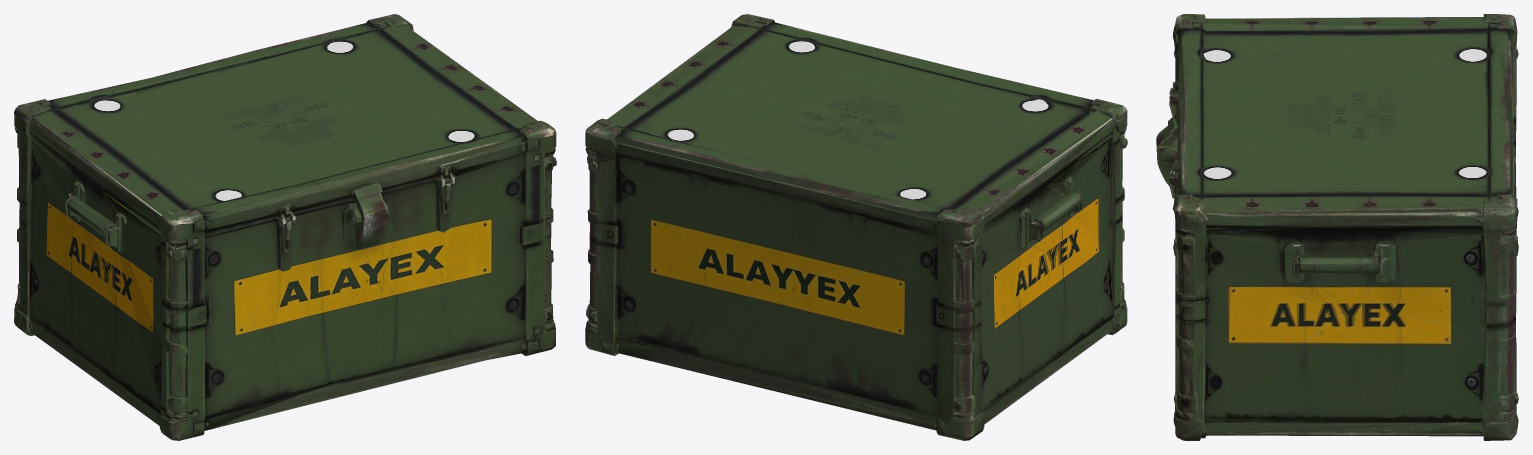
The model's file is ammo_crate.glb.
3 views of the same model, side by side, from view 1: azimuth 30°, elevation 25°; view 2: azimuth 150°, elevation 25°; view 3: azimuth 270°, elevation 25° (orthographic). The views are drawn at different scales.
Bounding box in the file's own units: 1.88 × 0.9925 × 1.38.
Materials: 1 (1 with a texture image).
